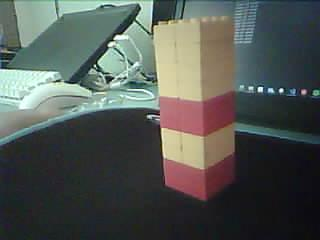lego: (152, 16, 236, 204)
